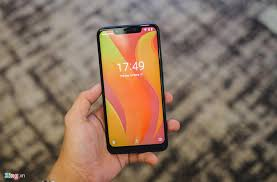vsmart: (93, 19, 171, 156)
